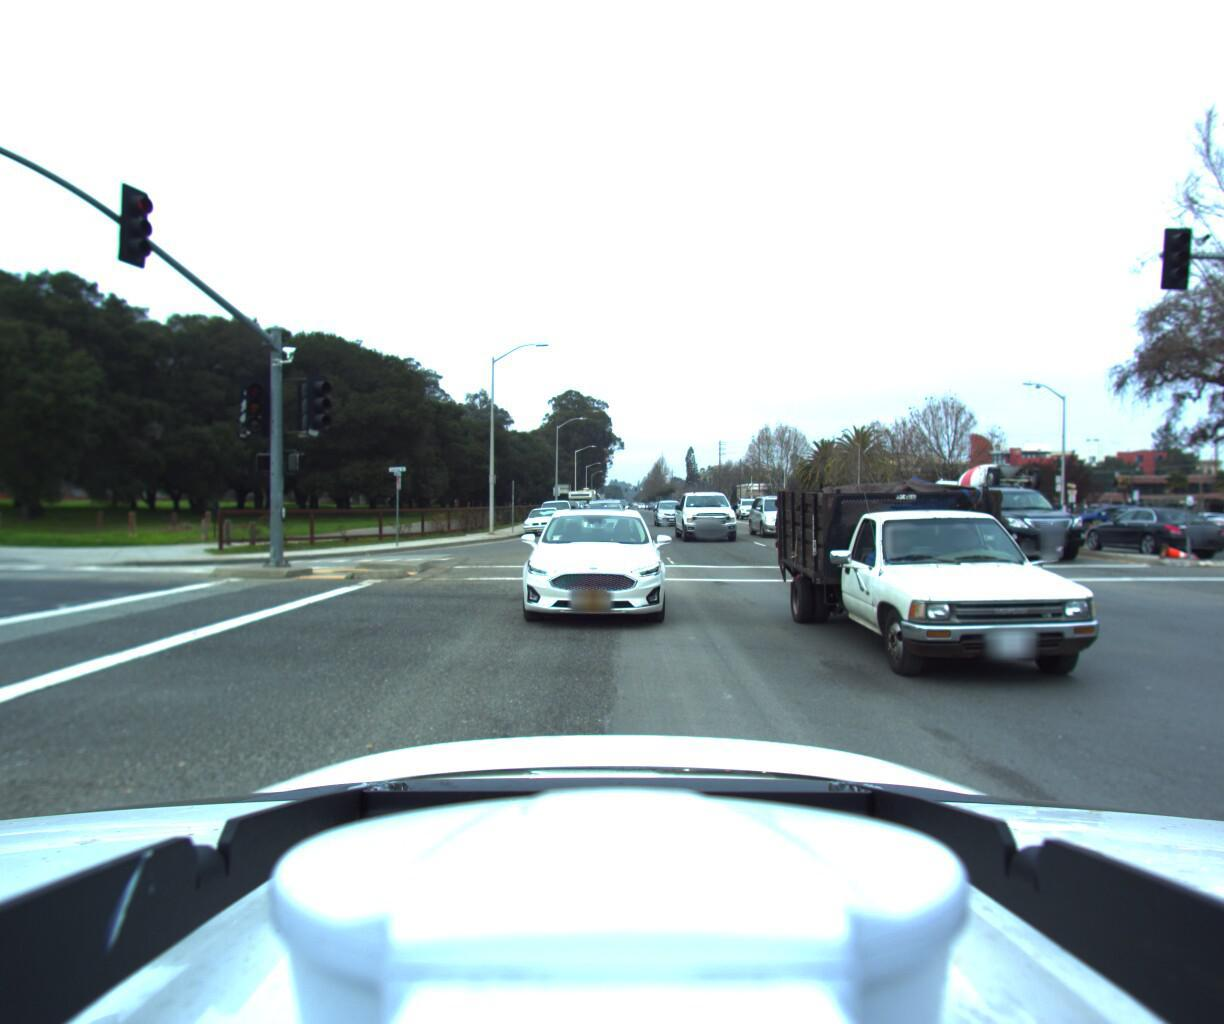bicycle: (511, 498, 521, 515)
car: (787, 430, 1224, 720), (503, 501, 668, 624), (933, 480, 1092, 560), (1054, 504, 1199, 554), (676, 489, 749, 543), (744, 492, 816, 538), (584, 496, 638, 543), (519, 504, 565, 533), (534, 498, 576, 529), (647, 499, 681, 526), (734, 497, 767, 521)
other_vehicle: (901, 458, 1036, 535), (563, 487, 595, 513)
